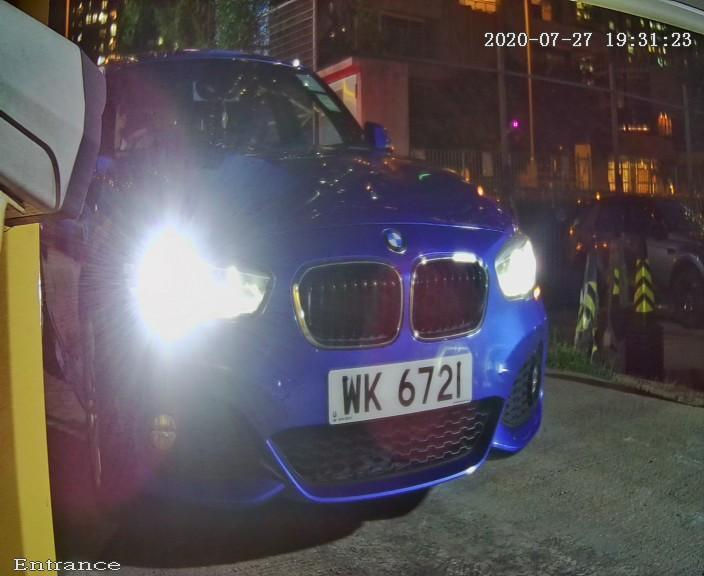privatecar: (63, 6, 576, 559)
